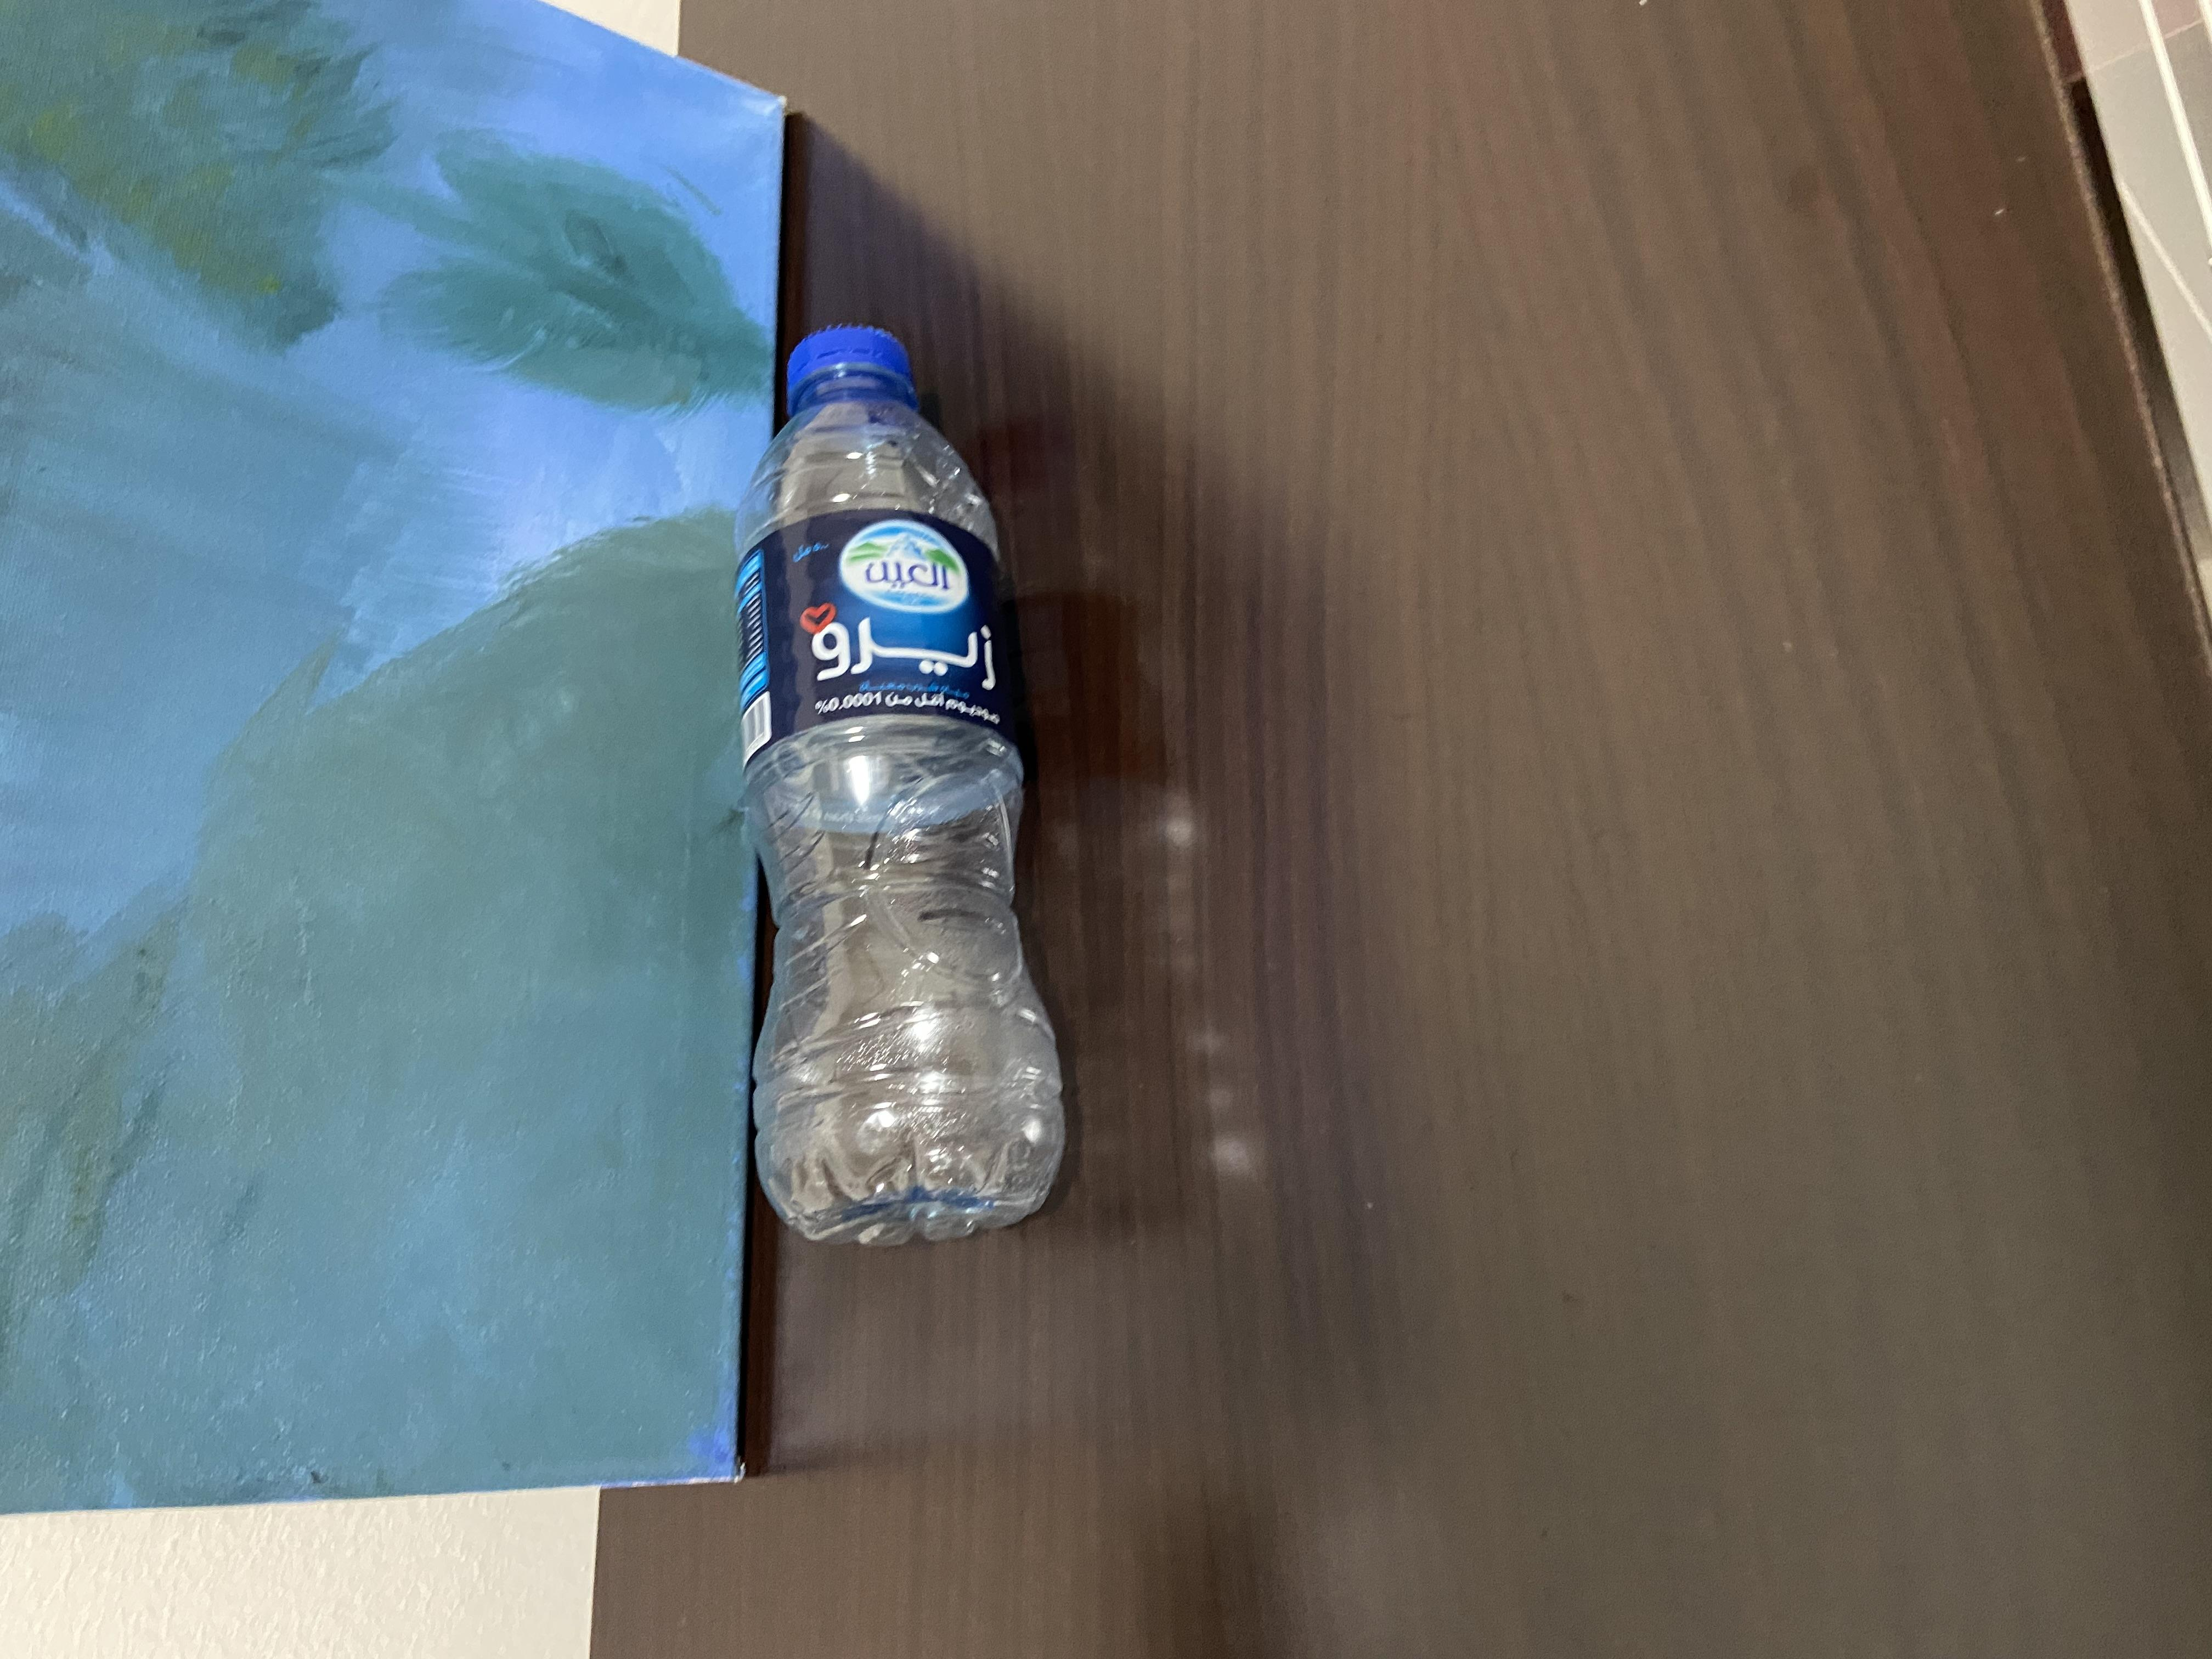bottle: (529, 552, 1824, 798)
